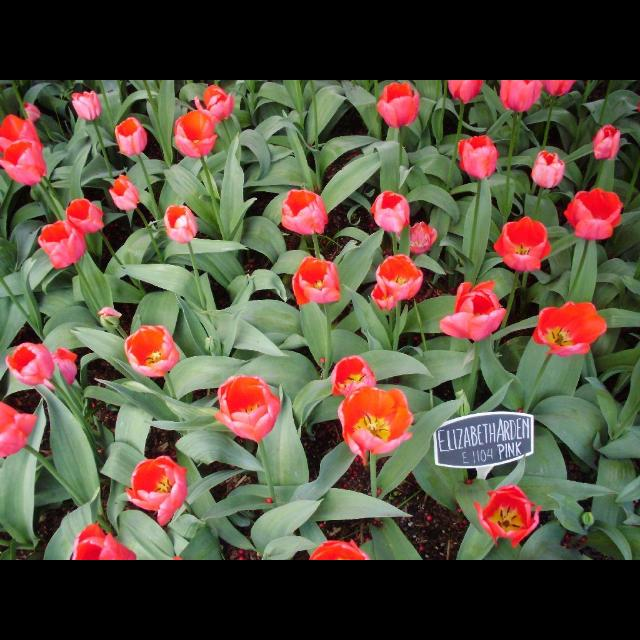Flower: (342, 386, 412, 464), (530, 294, 608, 358), (124, 455, 186, 533), (473, 484, 543, 544), (439, 282, 505, 344), (372, 252, 426, 308), (125, 328, 183, 378), (70, 522, 138, 560), (38, 218, 86, 268), (277, 186, 327, 234), (291, 258, 341, 306), (328, 355, 378, 401), (176, 108, 218, 162), (0, 115, 44, 165), (2, 138, 46, 188), (378, 82, 422, 128), (0, 405, 36, 461), (5, 344, 56, 382), (457, 136, 497, 182), (372, 190, 414, 232), (194, 86, 238, 120), (307, 537, 371, 559), (163, 205, 199, 243), (116, 118, 150, 156), (66, 200, 106, 232), (504, 80, 538, 116), (531, 152, 567, 186), (111, 174, 142, 212), (52, 344, 76, 390), (70, 91, 104, 122), (408, 223, 440, 253), (448, 80, 484, 106), (592, 124, 618, 156), (543, 80, 573, 94)
